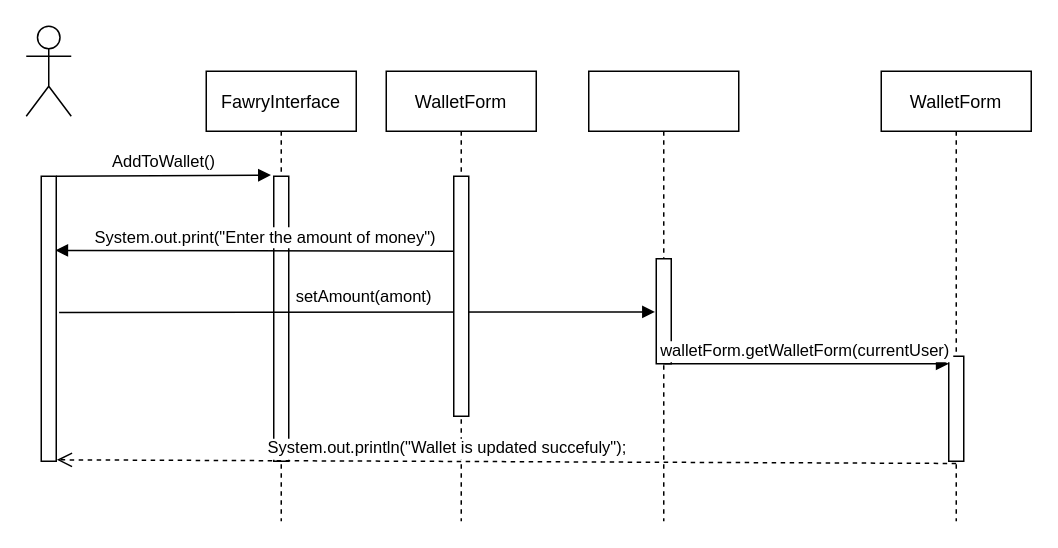
Image size: 1058x548. Some labels were removed from this diagram. Here are the shapes that lost their labels. From the top down, the centre of each, then its label:
(x=48, y=70): Actor
(x=663, y=295): Transaction
